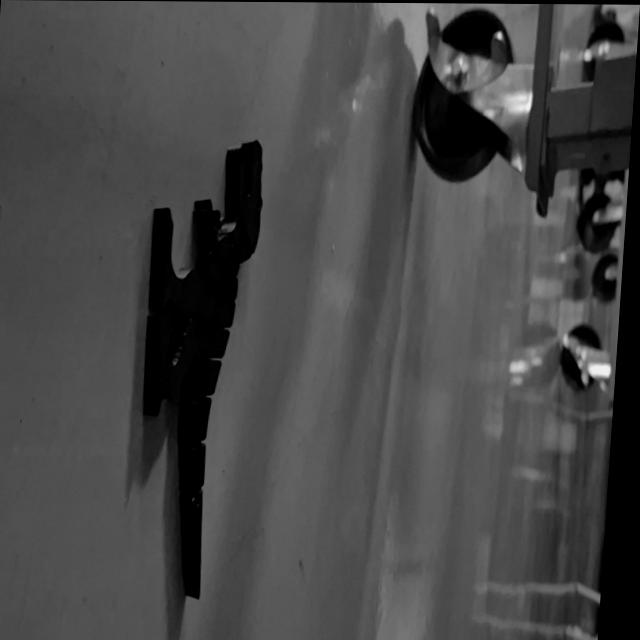dino: (126, 137, 267, 601)
